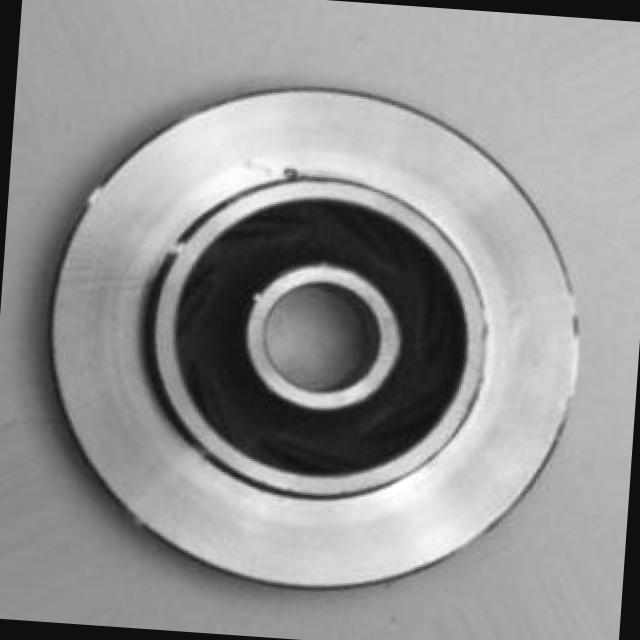Defect: (278, 164, 305, 187)
